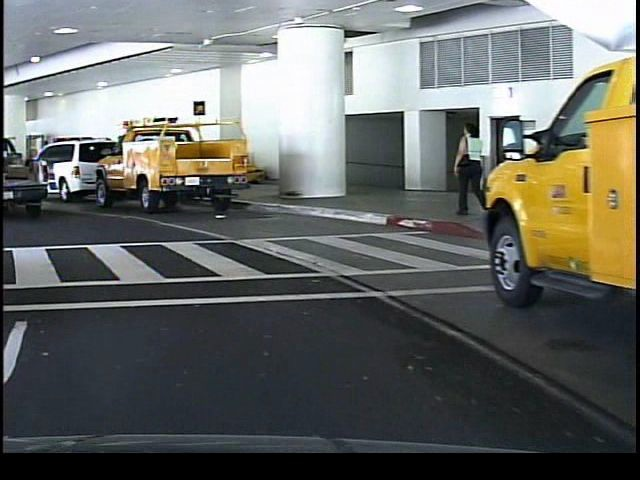person: (446, 117, 483, 221)
